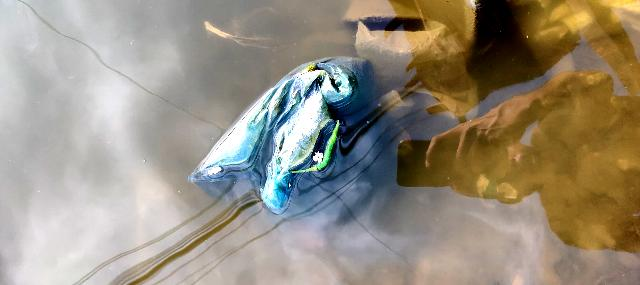polythene: (188, 53, 406, 208)
